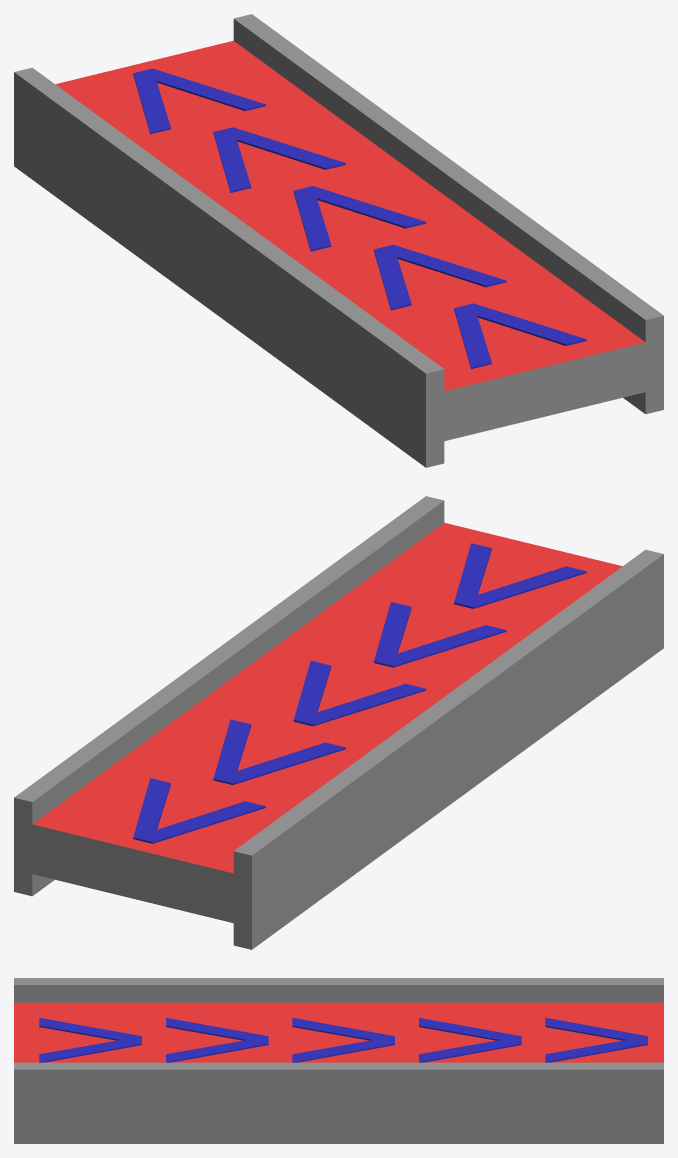
Rendered from directed_bridge.fbx.
The picture shows the model from 3 angles, top to bottom: view 1: azimuth 30°, elevation 25°; view 2: azimuth 150°, elevation 25°; view 3: azimuth 270°, elevation 25°; orthographic projection. The views are drawn at different scales.
Visible parts, largest first — view 1: Mesh; view 2: Mesh; view 3: Mesh.
Part boxes in pixels (x1,y1,x2,y2): Mesh: (14,14,663,467); Mesh: (14,496,663,949); Mesh: (14,978,663,1143).
Bounding box in the file's own units: 1 × 0.3784 × 3.
